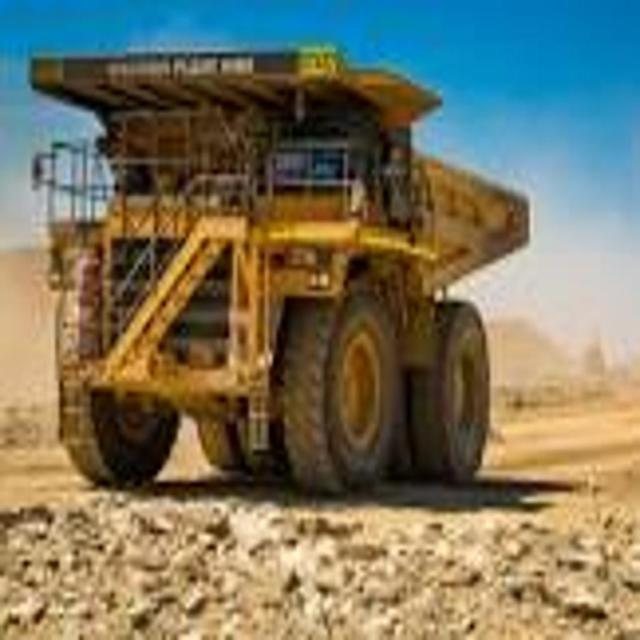dump_truck: (27, 38, 531, 510)
